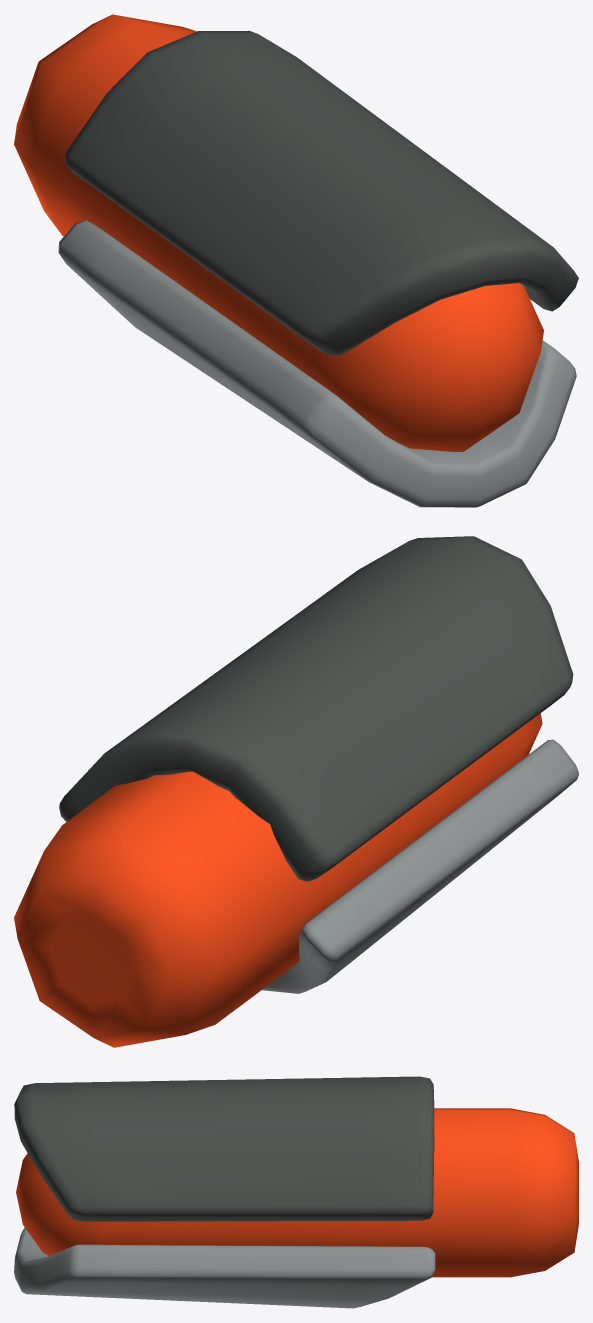
File: xsens_RightSecondPP.dae
3 views of the same model, one above another, from view 1: azimuth 30°, elevation 25°; view 2: azimuth 150°, elevation 25°; view 3: azimuth 270°, elevation 25° (orthographic). The views are drawn at different scales.
Parts seen in each view (by area): view 1: RightSecondPP; view 2: RightSecondPP; view 3: RightSecondPP.
Part boxes in pixels (x1,y1,x2,y2): RightSecondPP: (14, 14, 578, 507); RightSecondPP: (14, 536, 578, 1047); RightSecondPP: (14, 1076, 578, 1308).
Bounding box in the file's own units: 0.0189 × 0.0459 × 0.0189.
